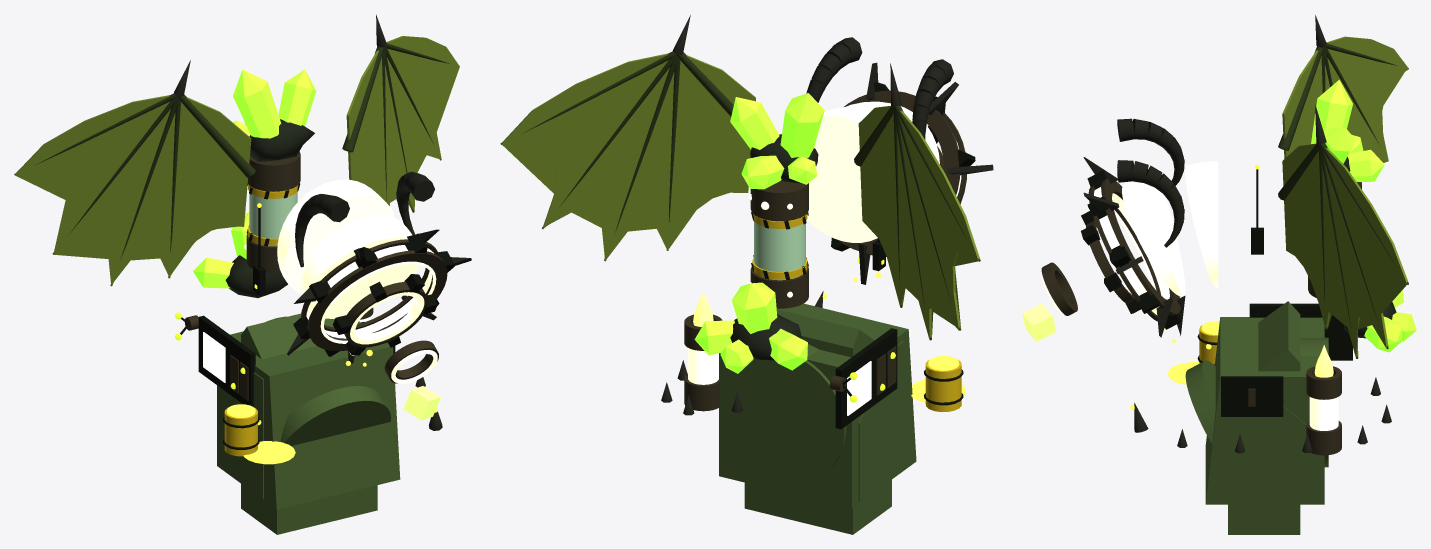
Rendered from VenomDrakeMine_Roblox.fbx.
3 renders of one model, left to right at view 1: azimuth 30°, elevation 25°; view 2: azimuth 150°, elevation 25°; view 3: azimuth 270°, elevation 25°, orthographic. The views are drawn at different scales.
Visible parts, largest first — view 1: WingMembrane, Stone, Neon, RustedIron, Black, WingBone, Crystal, Horn, Rock, HazardYellow, CanisterGlass, Venom (+2 smaller); view 2: WingMembrane, Stone, Crystal, Neon, RustedIron, WingBone, Horn, Black, CanisterGlass, HazardYellow, Rock, Screen (+1 smaller); view 3: WingMembrane, Stone, Neon, Black, RustedIron, Horn, Crystal, WingBone, Ore, Venom, HazardYellow.
Boxes of the visible parts, x1,y1,x2,y2 form: WingMembrane: [15, 36, 459, 285]; Stone: [217, 313, 400, 534]; Neon: [244, 179, 437, 383]; RustedIron: [184, 151, 447, 400]; Black: [180, 183, 454, 449]; WingBone: [14, 43, 449, 286]; Crystal: [193, 69, 316, 288]; Horn: [174, 14, 471, 430]; Rock: [225, 119, 314, 298]; HazardYellow: [224, 184, 298, 456]; CanisterGlass: [249, 192, 297, 246]; Venom: [227, 349, 438, 464]; WingMembrane: [501, 53, 980, 339]; Stone: [719, 303, 916, 534]; Crystal: [694, 93, 824, 373]; Neon: [688, 101, 961, 384]; RustedIron: [684, 90, 966, 411]; WingBone: [500, 51, 980, 340]; Horn: [661, 15, 993, 415]; Black: [751, 82, 975, 429]; CanisterGlass: [754, 221, 805, 280]; HazardYellow: [752, 213, 961, 411]; Rock: [730, 134, 818, 360]; Screen: [847, 361, 871, 415]; WingMembrane: [1282, 36, 1408, 358]; Stone: [1185, 301, 1328, 534]; Neon: [1041, 161, 1365, 430]; Black: [1081, 169, 1352, 416]; RustedIron: [1041, 178, 1361, 455]; Horn: [1083, 15, 1391, 453]; Crystal: [1311, 79, 1416, 352]; WingBone: [1278, 43, 1408, 358]; Ore: [1022, 303, 1056, 341]; Venom: [1130, 321, 1219, 410]; HazardYellow: [1199, 325, 1218, 364].
Size of the model in its own units: 2128 by 2073 by 1641.
